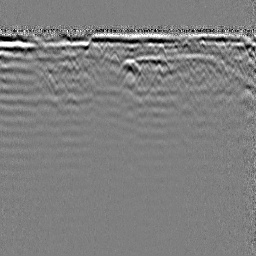cavity: (115, 55, 145, 80)
